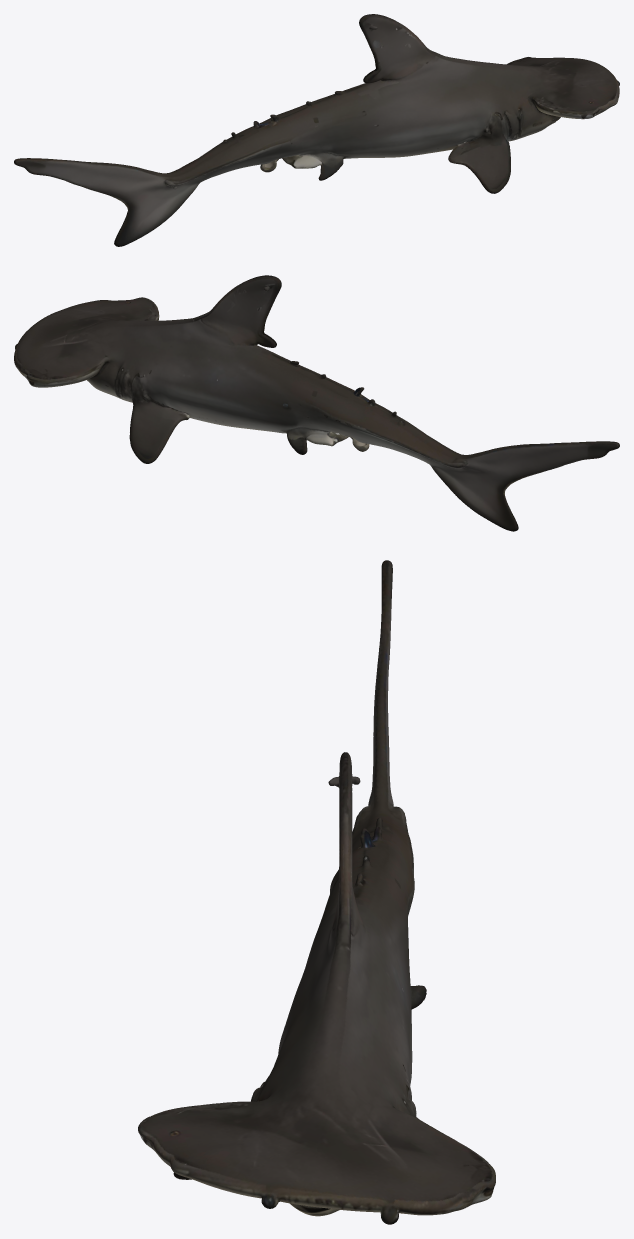
The model's file is real_hammer_a.glb.
3 renders of one model, top to bottom at view 1: azimuth 30°, elevation 25°; view 2: azimuth 150°, elevation 25°; view 3: azimuth 270°, elevation 25°, orthographic. The views are drawn at different scales.
Visible parts, largest first — view 1: tripo_node_88bdd98c-6f5f-4618-bec7-27fb36f3f0be; view 2: tripo_node_88bdd98c-6f5f-4618-bec7-27fb36f3f0be; view 3: tripo_node_88bdd98c-6f5f-4618-bec7-27fb36f3f0be.
Boxes of the visible parts, bbox=[...] form: tripo_node_88bdd98c-6f5f-4618-bec7-27fb36f3f0be: bbox=[14, 14, 619, 246]; tripo_node_88bdd98c-6f5f-4618-bec7-27fb36f3f0be: bbox=[14, 275, 619, 531]; tripo_node_88bdd98c-6f5f-4618-bec7-27fb36f3f0be: bbox=[138, 560, 495, 1224].
Bounding box in the file's own units: 1 × 0.2969 × 0.2681.
1 material, 1 textured.
